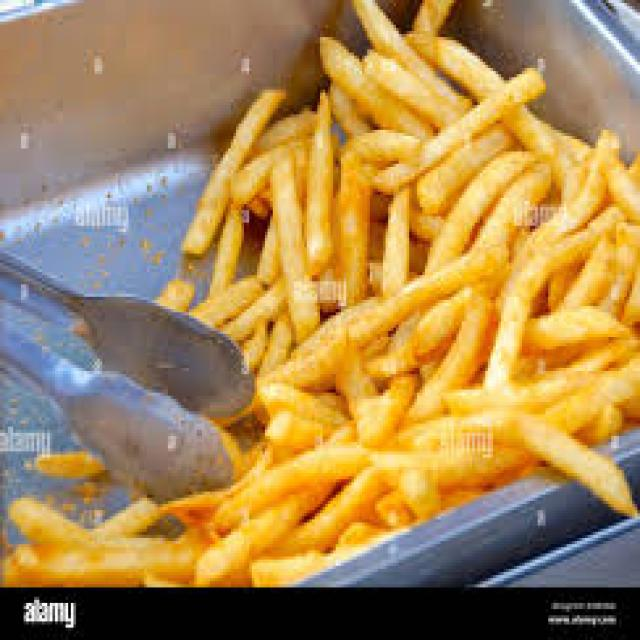Fries: (185, 89, 636, 481)
